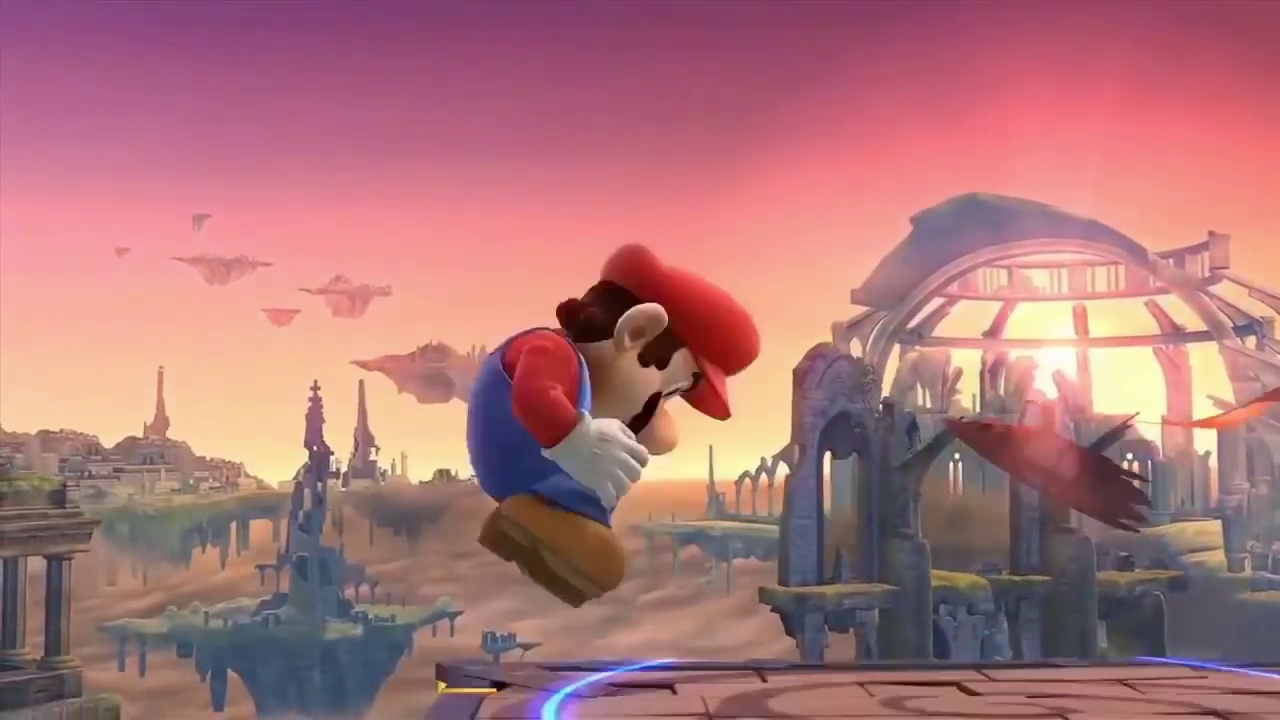Mario: (468, 244, 761, 607)
